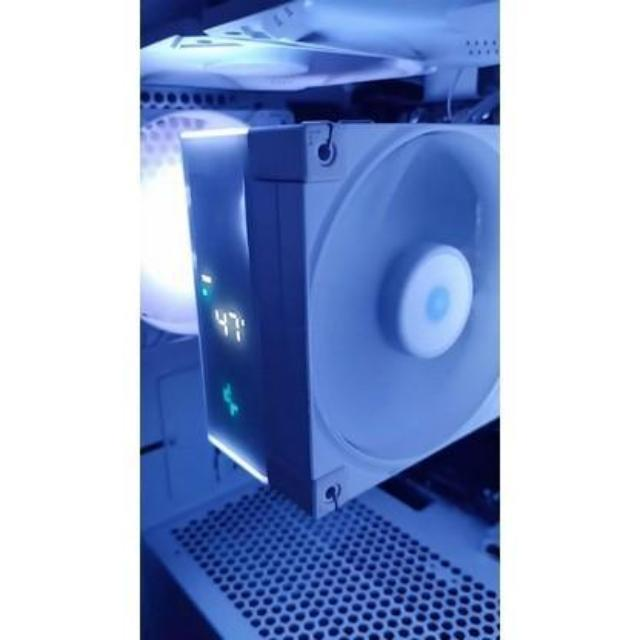CPU_Fan: (176, 118, 501, 513)
